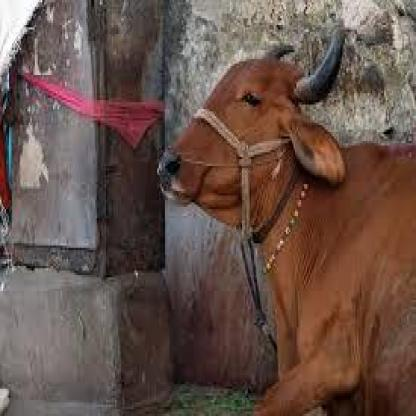cow: (157, 24, 416, 415)
